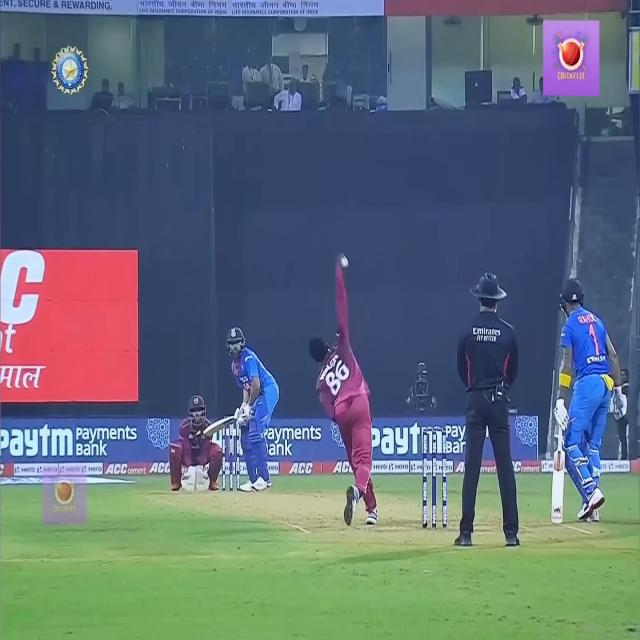partially_visible: (364, 409, 451, 467), (2, 424, 79, 471)
